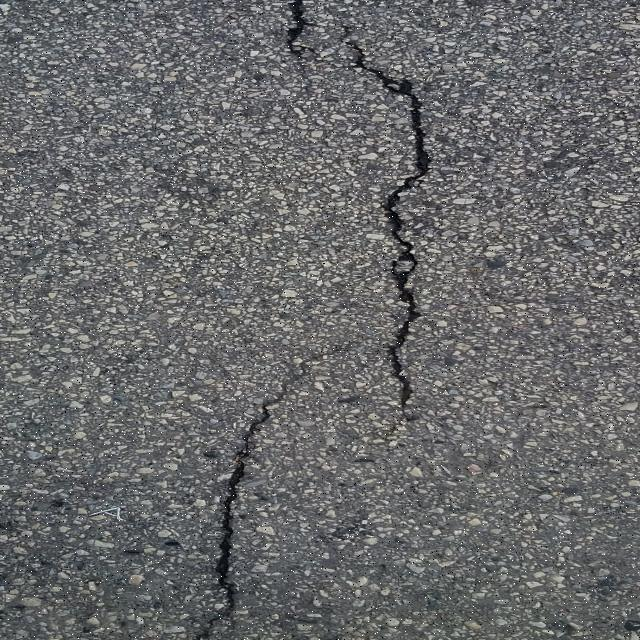Crack: (347, 44, 431, 405), (190, 382, 294, 640), (279, 0, 319, 63)
